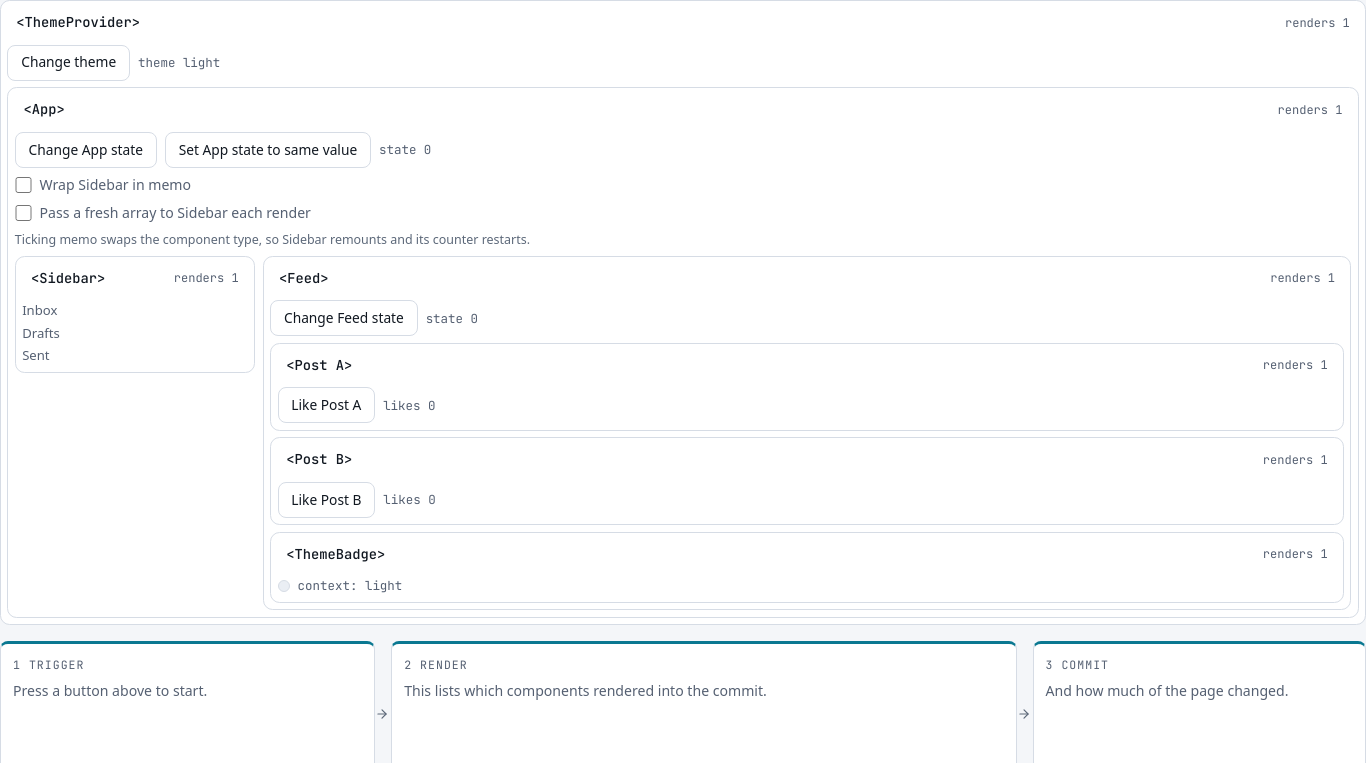
it: render-tree lab › re-renders only the provider and its consumer when context changes
Click the button "Change theme" at (69, 63), box top-left (7, 45), bottom-right (130, 81)
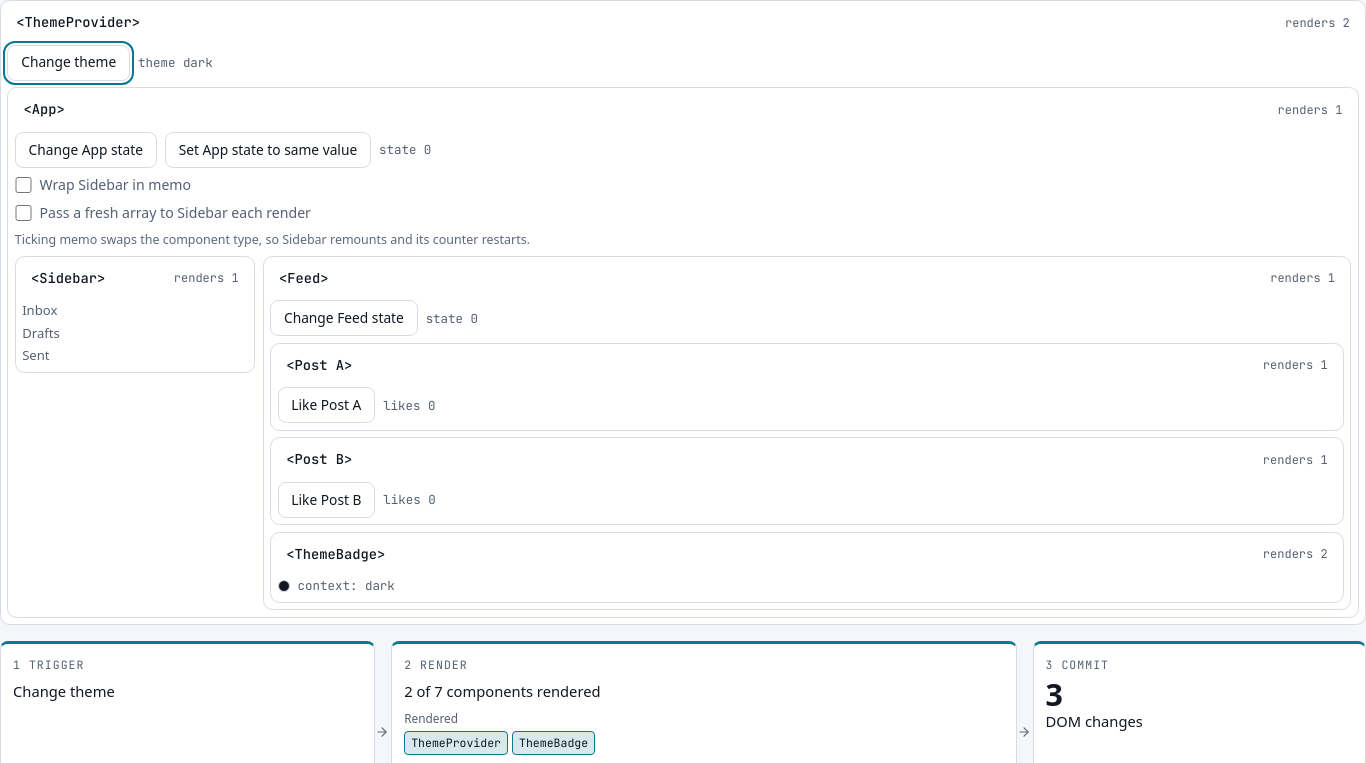
Result: the text "context: dark" is shown at top-left (278, 577), bottom-right (395, 594)
